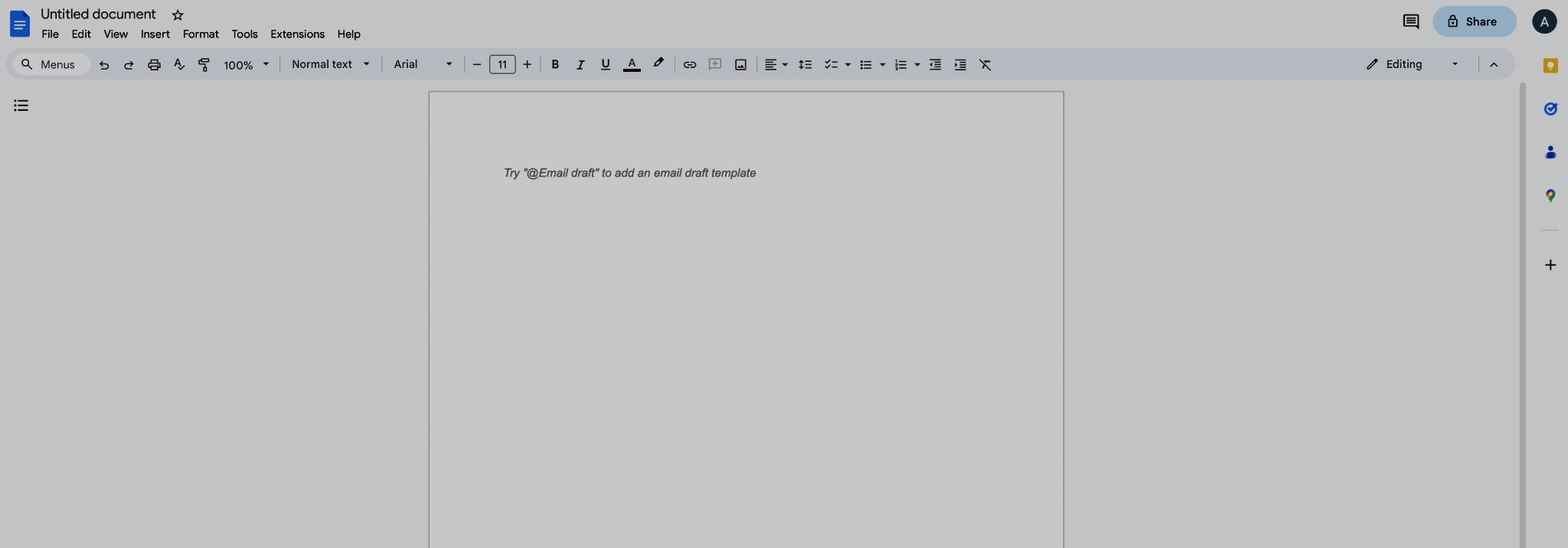webelement: (279, 49, 384, 78), (385, 48, 461, 79), (464, 49, 540, 79), (13, 52, 91, 76), (268, 25, 333, 42), (755, 51, 793, 79), (885, 49, 917, 82), (947, 49, 976, 81), (225, 22, 265, 45), (139, 22, 176, 44), (855, 52, 885, 78), (676, 48, 703, 76), (794, 49, 817, 81), (646, 52, 673, 79), (101, 22, 134, 44), (921, 49, 945, 79), (335, 23, 368, 44), (145, 45, 167, 76), (179, 28, 227, 42), (623, 52, 647, 78), (595, 52, 618, 78), (547, 51, 569, 78), (173, 48, 193, 76), (573, 51, 592, 78), (69, 26, 97, 44), (122, 54, 143, 76), (40, 25, 65, 42), (98, 51, 117, 73)
